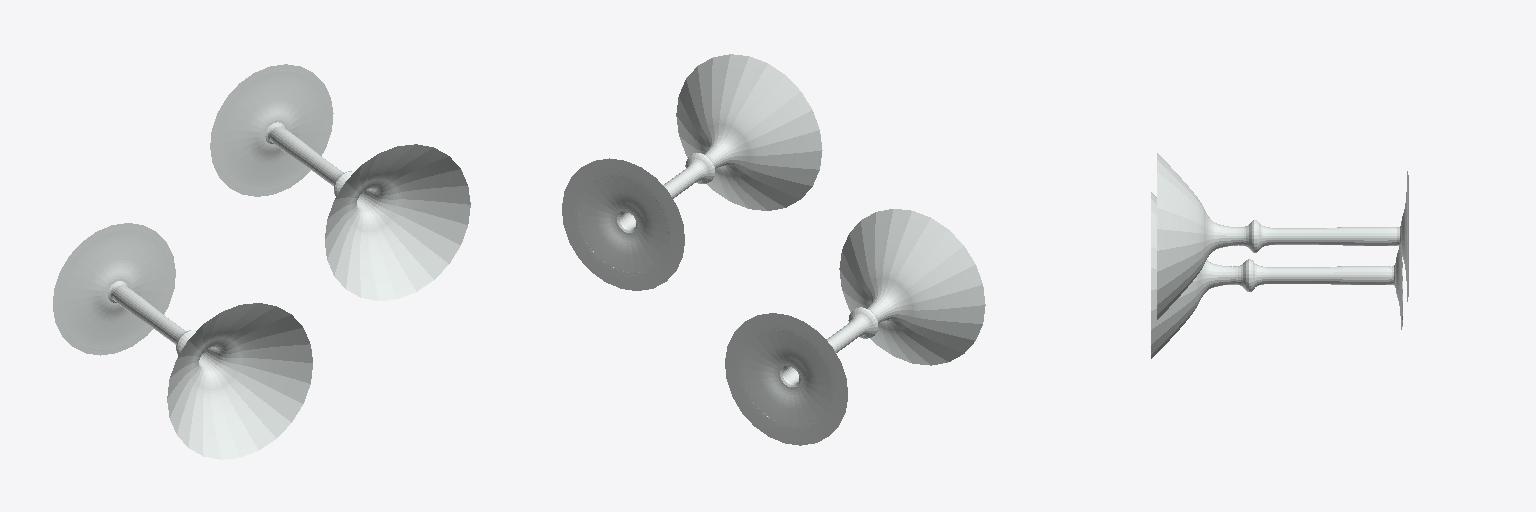
The model's file is Glass2.obj.
The picture shows the model from 3 angles: view 1: azimuth 30°, elevation 25°; view 2: azimuth 150°, elevation 25°; view 3: azimuth 270°, elevation 25°; orthographic projection.
Visible parts, largest first — view 1: glass1, glass2; view 2: glass1, glass2; view 3: glass1, glass2.
Part boxes in pixels (x1,y1,x2,y2): glass1: (210, 64, 470, 300); glass2: (53, 223, 312, 459); glass1: (562, 54, 822, 290); glass2: (725, 209, 985, 445); glass1: (1157, 153, 1408, 319); glass2: (1151, 192, 1402, 358).
Bounding box in the file's own units: 844 × 711 × 614.